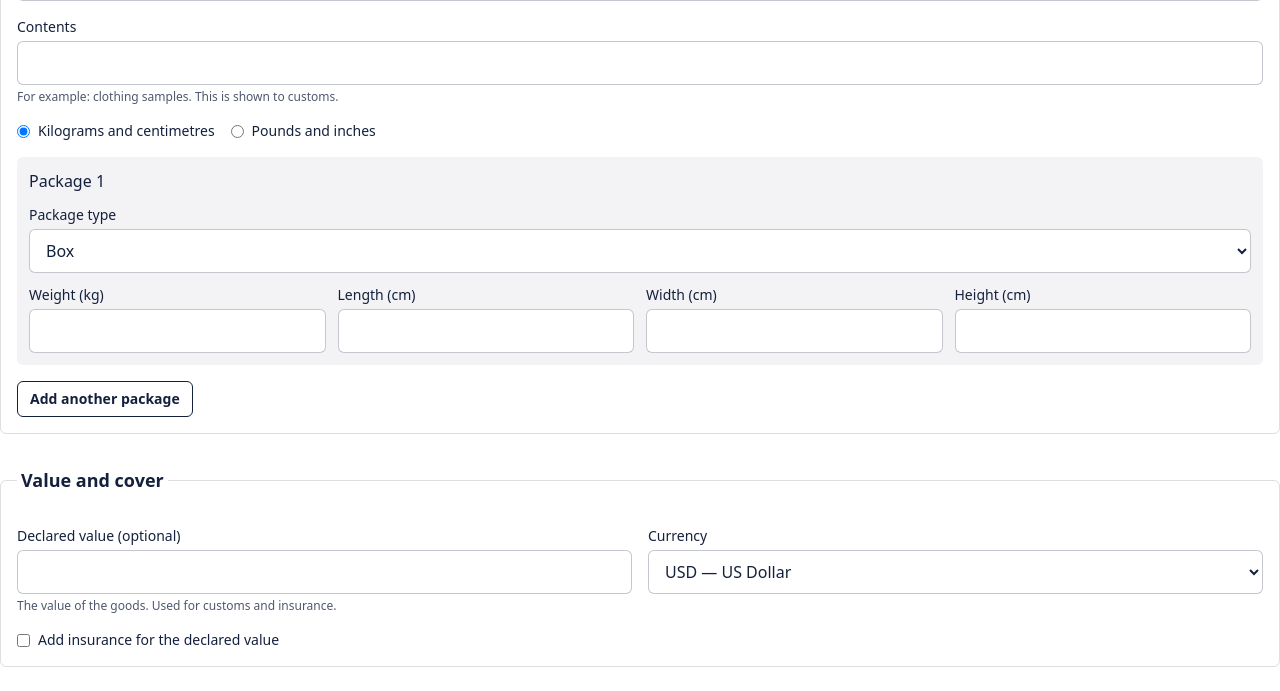
it: QuoteForm › clears measurements when the unit system changes, so numbers are never silently reinterpreted
(page scrolled)
Type "2" into the field labelled "Weight (kg)" at (177, 331), box 29,309 -> 326,353
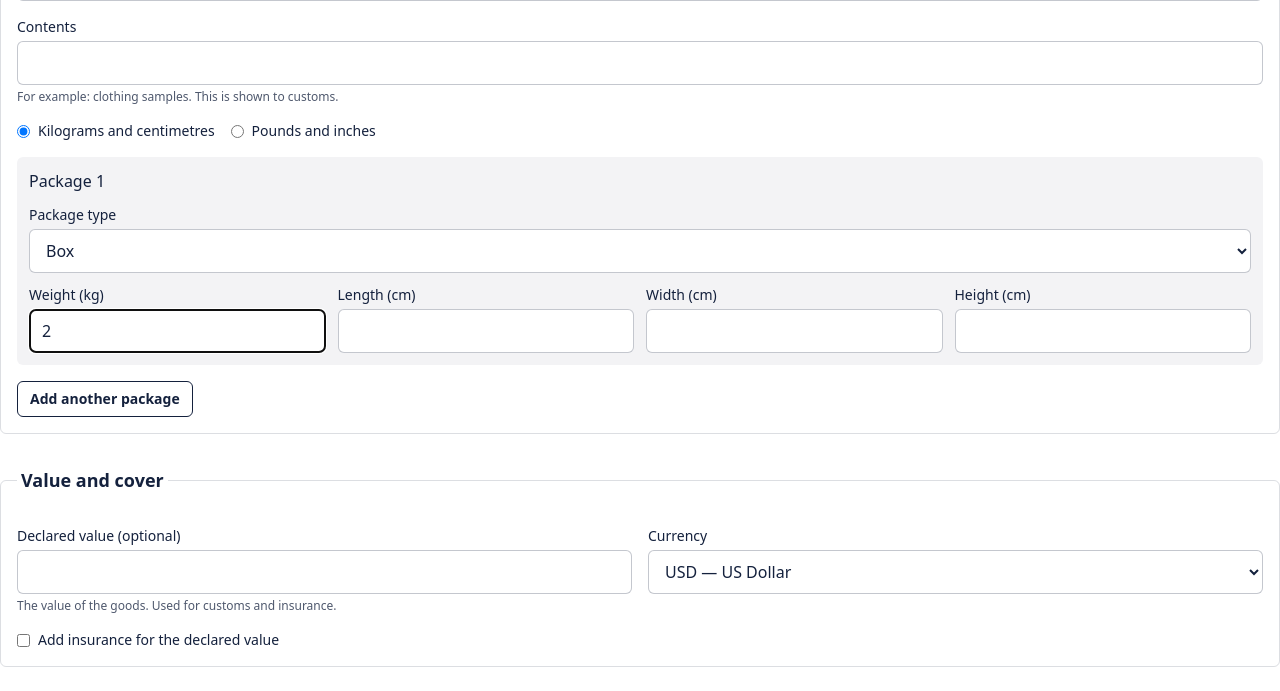
Click the radio button labelled "Pounds and inches" at (237, 131), box 231,124 -> 244,138
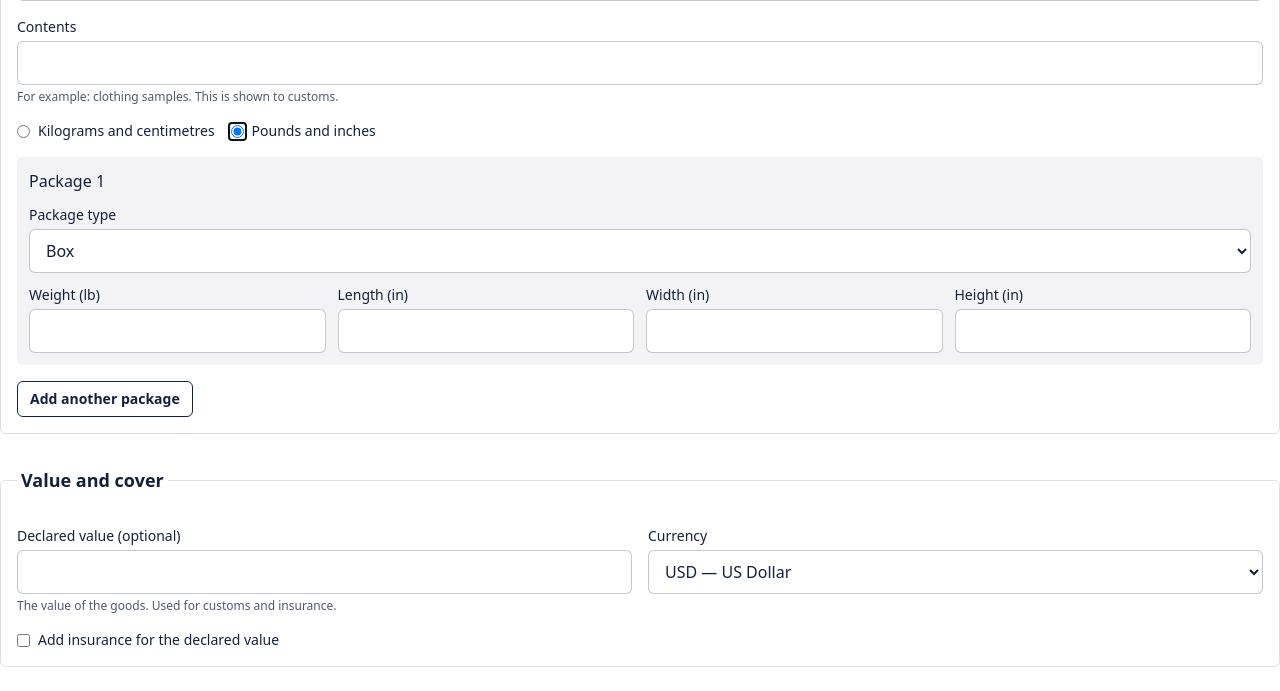
Expected: the field labelled "Length (in)" is shown, 338,309 -> 634,353
Now the field labelled "Weight (lb)" is empty, box 29,309 -> 326,353
Now the label labelled "Weight (kg)" is gone
